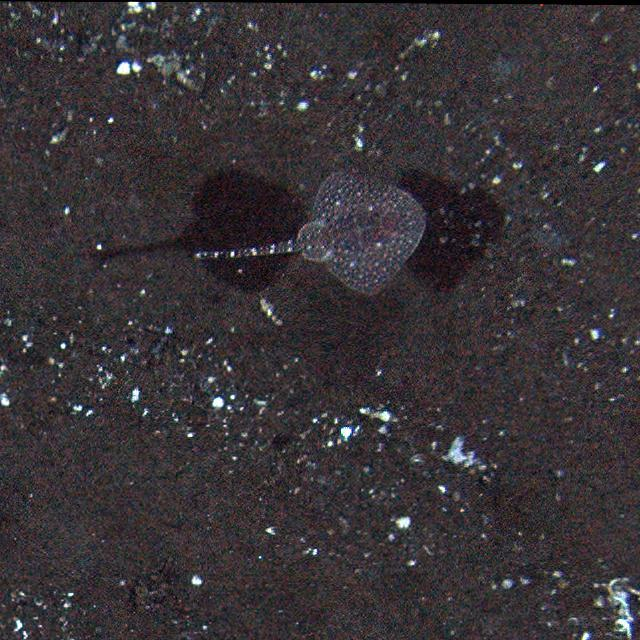skate: (196, 176, 427, 296)
